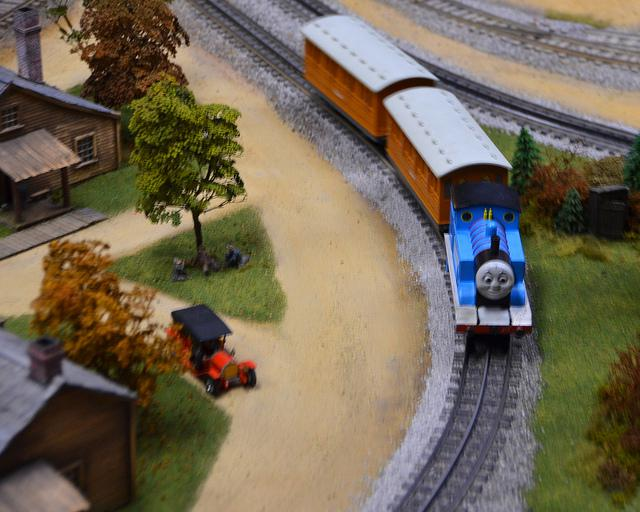Train: (297, 7, 543, 353)
